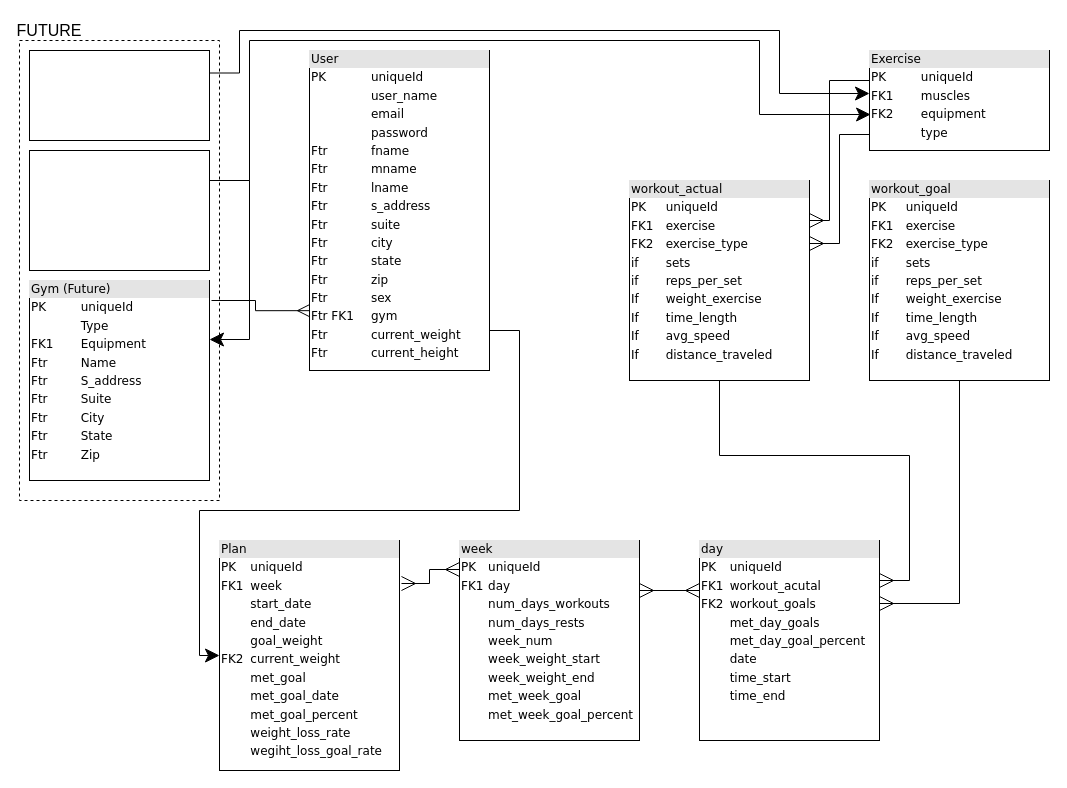
Some shapes in this 1067 by 788 pixel diagram are drawn without their labels. The centre of each missing label's shape, as x and y in pixels:
"Equipment (Future) PK uniqueId Name type min_weight max_weight" belongs at (119,210).
"Muscles (Future) PK uniqueId muscle" belongs at (119,95).
